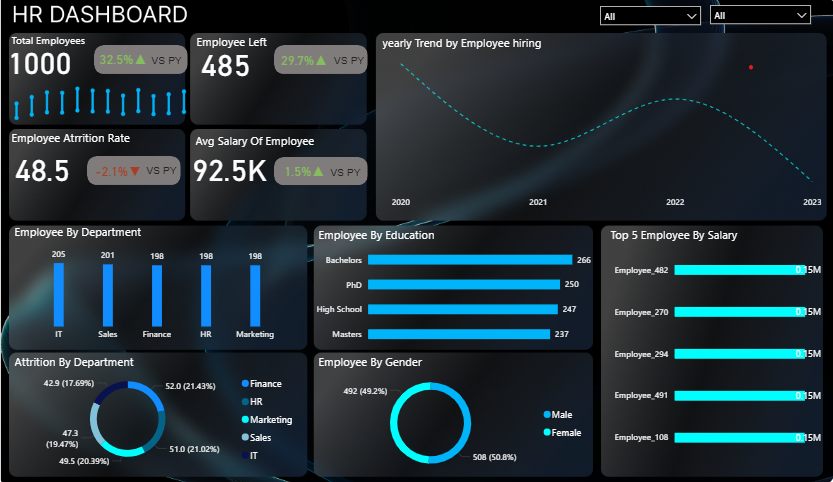

This screenshot's page, from the dashboard's own definition file:
{"tool":"powerbi","page":{"name":"Page 1","canvas":[1280,720],"ordinal":0},"visuals":[{"type":"card","fields":{"Values":["Measure.Total Employee"]},"box":[24.3,67.2,163,72.9],"z":0},{"type":"card","fields":{"Values":["Measure.Attrition Rate (Employee Trunover)"]},"box":[44.3,207.7,131.6,93],"z":1000},{"type":"card","fields":{"Values":["Measure.Average Salary"]},"box":[304.6,221.3,140.2,65.8],"z":2000},{"type":"card","fields":{"Values":["Measure.Employee Left"]},"box":[318.9,77.2,101.5,57.2],"z":3000},{"type":"clusteredColumnChart","fields":{"Category":["HR_Data.Department"],"Y":["Measure.Total Employee"]},"box":[65.2,350.1,413.9,158.7],"z":4000},{"type":"donutChart","fields":{"Category":["HR_Data.Gender"],"Y":["Measure.Total Employee"]},"box":[496.1,537.2,392.6,158.7],"z":5000},{"type":"clusteredBarChart","fields":{"Y":["Measure.Total Employee"],"Category":["HR_Data.Education"]},"box":[487.6,344.4,405.4,180],"z":6000},{"type":"lineChart","fields":{"Y":["Measure.Total Employee"],"Category":["HR_Data.JoiningDate.Variation.Date Hierarchy.Year"]},"box":[599.2,77.2,619.3,244.6],"z":7000},{"type":"donutChart","fields":{"Category":["HR_Data.Department"],"Y":["Measure.Attrition Rate (Employee Trunover)"]},"box":[65.2,537.2,413.9,147.4],"z":8000},{"type":"clusteredBarChart","fields":{"Category":["HR_Data.Name"],"Y":["Sum(HR_Data.Salary)"]},"box":[909.9,333.1,309,362.8],"z":9000},{"type":"columnChart","fields":{"Category":["HR_Data.JoiningDate.Variation.Date Hierarchy.Month"],"Y":["Measure.Total Employee"]},"box":[60.1,124.4,264.6,85.8],"z":10000},{"type":"textbox","box":[61.5,58.6,170.2,45.8],"z":11000},{"type":"textbox","box":[323.2,60.1,201.7,45.8],"z":12000},{"type":"textbox","box":[321.8,200.2,205.9,51.5],"z":13000},{"type":"textbox","box":[61.5,195.9,205.9,48.6],"z":14000},{"type":"textbox","box":[65.2,328.8,206.9,48.2],"z":15000},{"type":"textbox","box":[496.1,333.1,206.9,48.2],"z":16000},{"type":"textbox","box":[496.1,513.1,206.9,48.2],"z":17000},{"type":"textbox","box":[65.2,513.1,206.9,48.2],"z":18000},{"type":"textbox","box":[909.9,333.1,206.9,48.2],"z":19000},{"type":"textbox","box":[586.4,61.5,364.7,45.8],"z":20000},{"type":"shape","box":[183.1,80.1,133,41.5],"z":21000},{"type":"textbox","box":[236,88.7,77.2,31.5],"z":22000},{"type":"shape","box":[437.6,80.1,133,41.5],"z":23000},{"type":"textbox","box":[507.4,89.3,63.8,31.2],"z":24000},{"type":"shape","box":[437.6,238.8,133,40],"z":25000},{"type":"textbox","box":[497.3,247.4,68.6,35.8],"z":26000},{"type":"shape","box":[173.1,237.4,133,41.5],"z":27000},{"type":"textbox","box":[238.4,244.6,67.2,35.8],"z":28000},{"type":"card","fields":{"Values":["Measure.YOY EMPLOYEES"]},"box":[148.8,79.4,151.7,43.9],"z":29000},{"type":"card","fields":{"Values":["Measure.% YOY Attrition Rate"]},"box":[168.3,246,97.3,28.6],"z":30000},{"type":"card","fields":{"Values":["Measure.% YOY Sales"]},"box":[427.2,238.8,110.1,42.9],"z":31000},{"type":"card","fields":{"Values":["Measure.% YOY EMP Left"]},"box":[426.6,83.6,109.1,38.3],"z":32000},{"type":"slicer","fields":{"Values":["HR_Data.JoiningDate.Variation.Date Hierarchy.Year"]},"box":[1045.5,14.3,163,47.2],"z":32001},{"type":"slicer","fields":{"Values":["HR_Data.Department"]},"box":[889.6,15.7,163,47.2],"z":32002}]}

Visuals, with their boxes in screenshot pixels (x1, y1, x2, y2), scaled from the page's 1280x720 canvas onto the 833x482 screenshot:
card - Measure.Total Employee: (16,45,122,94)
card - Measure.Attrition Rate (Employee Trunover): (29,139,114,201)
card - Measure.Average Salary: (198,148,289,192)
card - Measure.Employee Left: (208,52,274,90)
clusteredColumnChart - HR_Data.Department x Measure.Total Employee: (42,234,312,341)
donutChart - HR_Data.Gender x Measure.Total Employee: (323,360,578,466)
clusteredBarChart - Measure.Total Employee x HR_Data.Education: (317,231,581,351)
lineChart - Measure.Total Employee x HR_Data.JoiningDate.Variation.Date Hierarchy.Year: (390,52,793,215)
donutChart - HR_Data.Department x Measure.Attrition Rate (Employee Trunover): (42,360,312,458)
clusteredBarChart - HR_Data.Name x Sum(HR_Data.Salary): (592,223,793,466)
columnChart - HR_Data.JoiningDate.Variation.Date Hierarchy.Month x Measure.Total Employee: (39,83,211,141)
textbox: (40,39,151,70)
textbox: (210,40,342,71)
textbox: (209,134,343,168)
textbox: (40,131,174,164)
textbox: (42,220,177,252)
textbox: (323,223,457,255)
textbox: (323,343,457,376)
textbox: (42,343,177,376)
textbox: (592,223,727,255)
textbox: (382,41,619,72)
shape: (119,54,206,81)
textbox: (154,59,204,80)
shape: (285,54,371,81)
textbox: (330,60,372,81)
shape: (285,160,371,187)
textbox: (324,166,368,190)
shape: (113,159,199,187)
textbox: (155,164,199,188)
card - Measure.YOY EMPLOYEES: (97,53,196,83)
card - Measure.% YOY Attrition Rate: (110,165,173,184)
card - Measure.% YOY Sales: (278,160,350,189)
card - Measure.% YOY EMP Left: (278,56,349,82)
slicer - HR_Data.JoiningDate.Variation.Date Hierarchy.Year: (680,10,786,41)
slicer - HR_Data.Department: (579,11,685,42)
